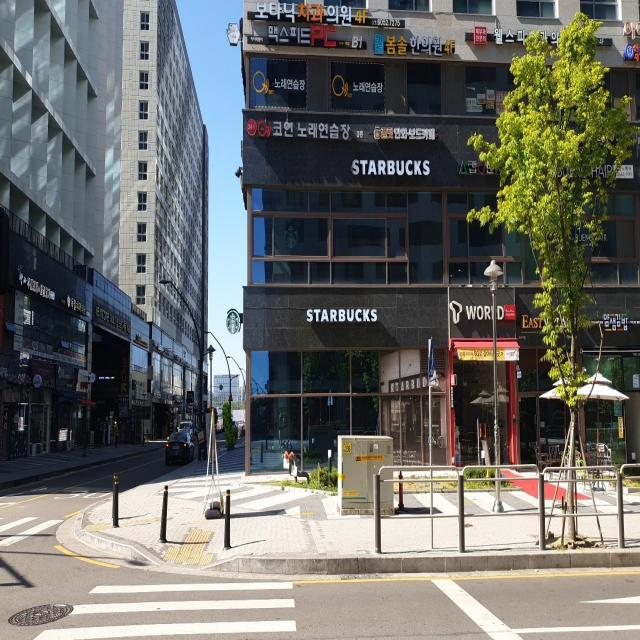횡단보도: (32, 580, 298, 640), (0, 514, 60, 550)
